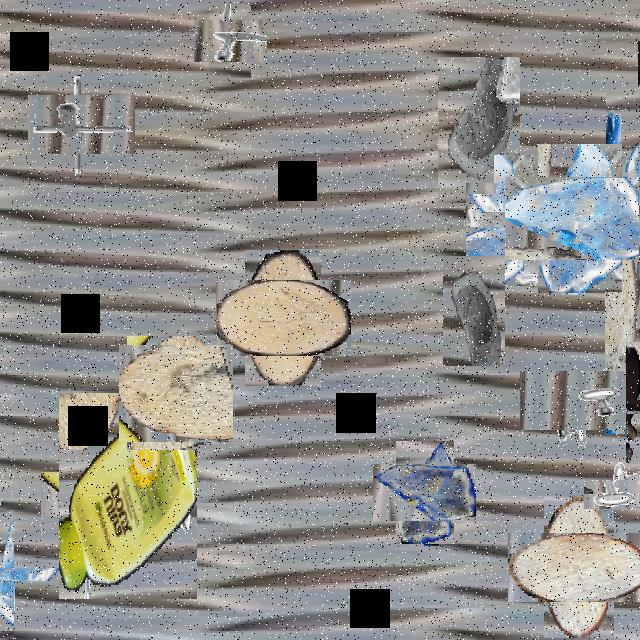glass: (522, 160, 638, 277), (438, 57, 520, 203), (480, 169, 582, 272), (443, 256, 505, 366), (385, 452, 465, 533), (0, 538, 42, 609)
metal: (40, 83, 124, 166), (532, 358, 614, 442), (50, 462, 114, 526), (151, 535, 195, 613), (606, 91, 640, 190), (201, 12, 259, 70), (597, 466, 640, 522)
plastic: (59, 393, 197, 599), (550, 128, 640, 305)
wood: (526, 514, 632, 620), (230, 265, 336, 371), (123, 340, 229, 446), (605, 166, 640, 436), (597, 371, 640, 442)
